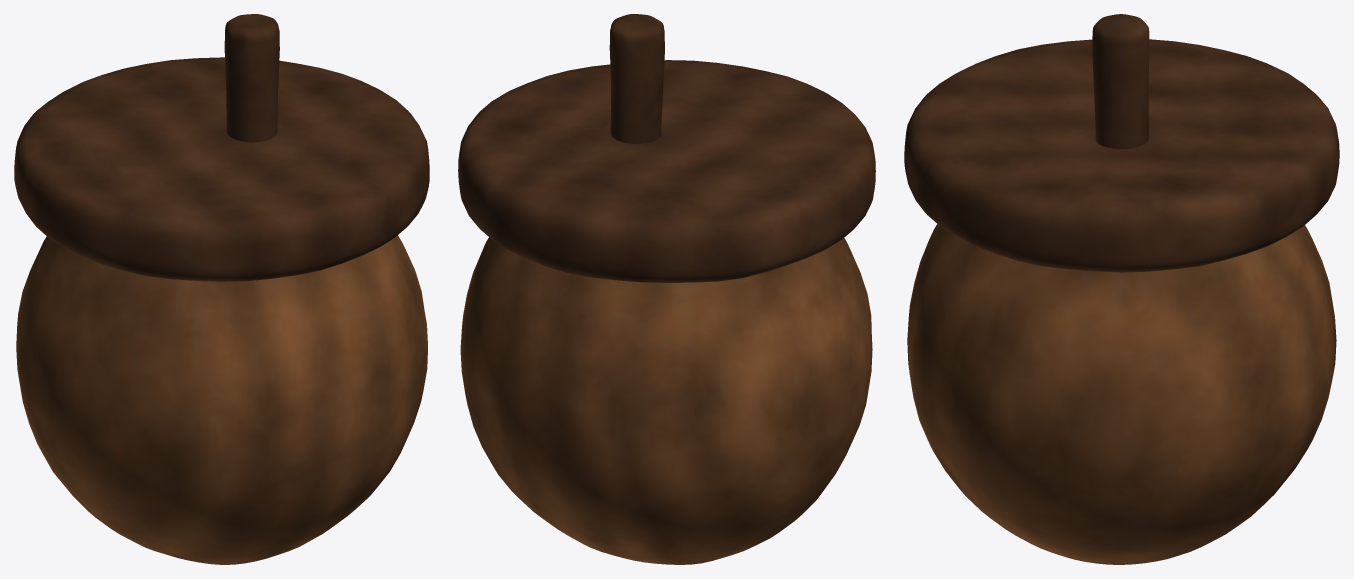
The model's file is candy_gumnut.glb.
The picture shows the model from 3 angles, left to right: view 1: azimuth 30°, elevation 25°; view 2: azimuth 150°, elevation 25°; view 3: azimuth 270°, elevation 25°; orthographic projection. The views are drawn at different scales.
Visible parts, largest first — view 1: candy_gumnut; view 2: candy_gumnut; view 3: candy_gumnut.
Part boxes in pixels (box(x1,y1,x2,y2)): candy_gumnut: box(14, 14, 429, 564); candy_gumnut: box(458, 14, 875, 564); candy_gumnut: box(904, 14, 1339, 564).
Size of the model in its own units: 0.5951 by 0.8151 by 0.5954.
2 materials, 2 textured.
